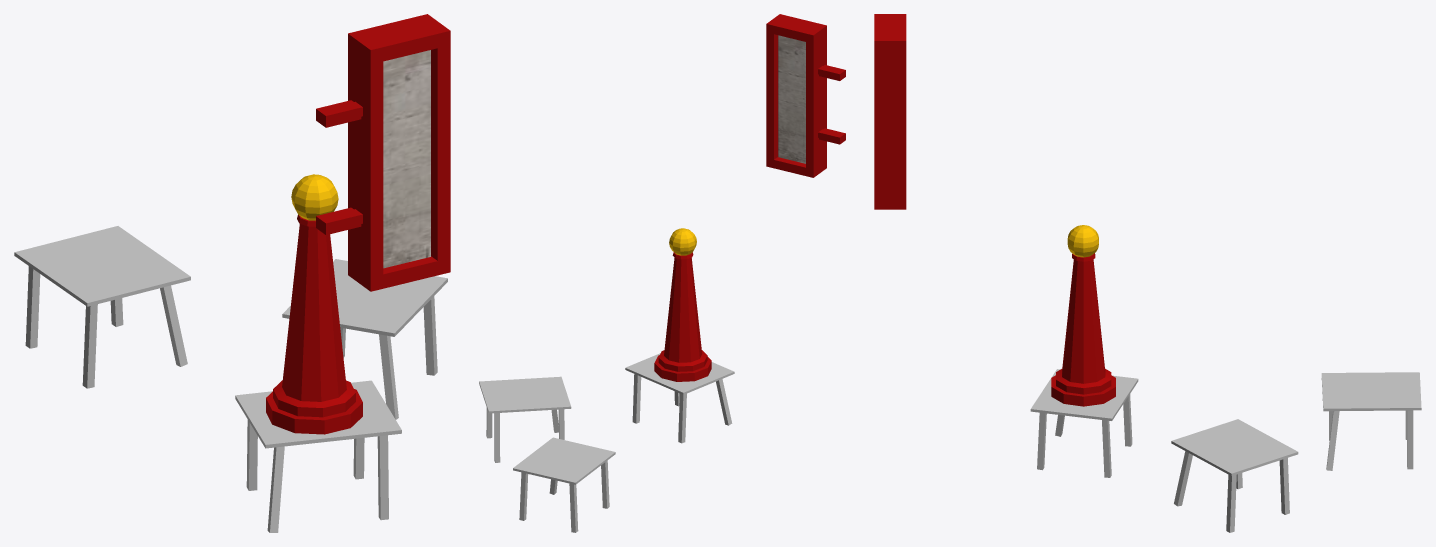
The model's file is Chinees huis items.obj.
The picture shows the model from 3 angles, left to right: view 1: azimuth 30°, elevation 25°; view 2: azimuth 150°, elevation 25°; view 3: azimuth 270°, elevation 25°; orthographic projection. The views are drawn at different scales.
Parts seen in each view (by area): view 1: pCube64, pCylinder337, pCube53, pPlane1, pCube50, pCube52; view 2: pCube64, pCylinder337, pCube53, pCube52, pPlane2, pCube50; view 3: pCylinder337, pCube64, pCube52, pCube53, pCube50.
Part boxes in pixels (box(x1,y1,x2,y2)): pCube64: box(316, 14, 450, 291); pCylinder337: box(266, 174, 362, 434); pCube53: box(14, 226, 190, 388); pPlane1: box(383, 50, 430, 268); pCube50: box(235, 380, 401, 532); pCube52: box(282, 259, 447, 419); pCube64: box(766, 14, 845, 177); pCylinder337: box(654, 228, 711, 381); pCube53: box(513, 437, 615, 532); pCube52: box(479, 376, 571, 462); pPlane2: box(778, 35, 805, 163); pCube50: box(625, 353, 734, 443); pCylinder337: box(1051, 225, 1115, 406); pCube64: box(874, 14, 906, 209); pCube52: box(1171, 419, 1298, 532); pCube53: box(1321, 372, 1421, 470); pCube50: box(1030, 369, 1138, 477).
Bounding box in the file's own units: 12.48 × 18.87 × 22.83.
